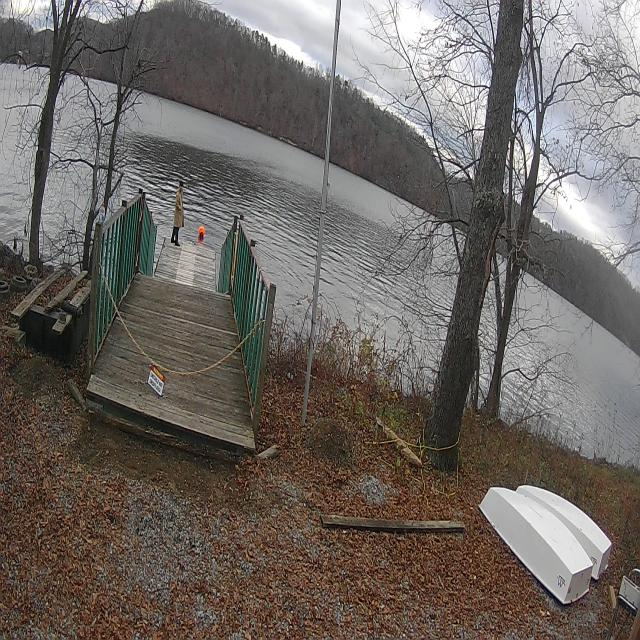Buoy: (198, 225, 206, 241)
